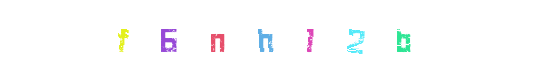2: (272, 0, 352, 80)
6: (127, 0, 207, 80)
B: (363, 0, 443, 80)
F: (82, 0, 162, 80)
H: (210, 0, 290, 80)
L: (237, 0, 317, 80)
N: (182, 0, 262, 80)
